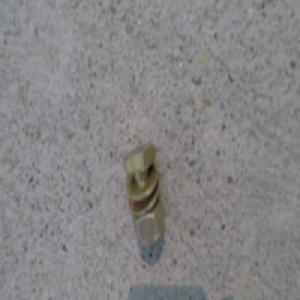BoltNutSet: (124, 140, 164, 242)
